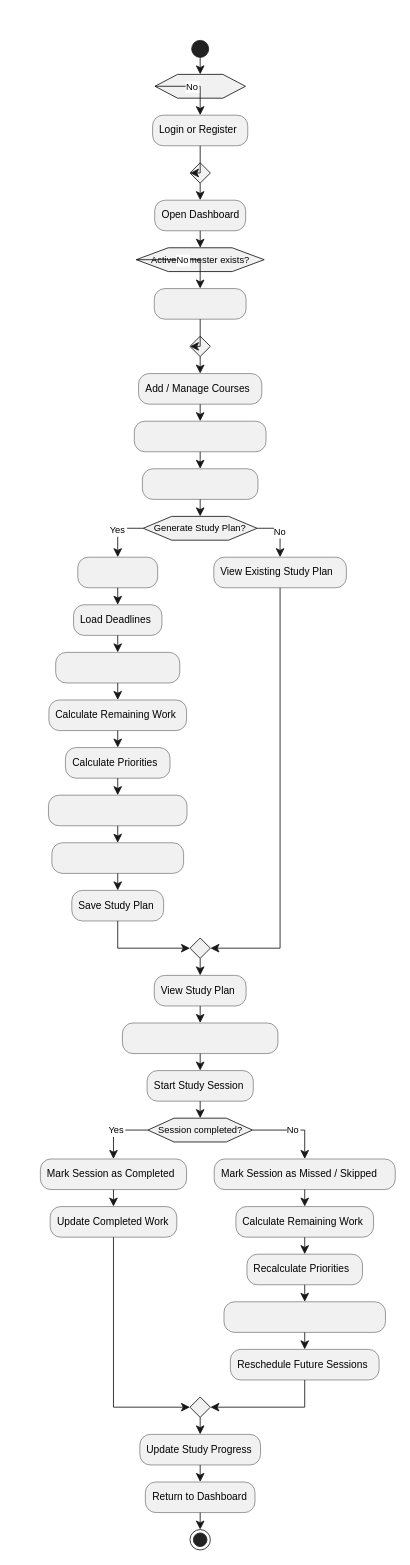
This 410x1565 diagram has some shape labels left out. The shapes that lost their labels are listed below. From the top down, each one's centre as x and y in pixels, then its label:
point (199, 86): User logged in?
point (200, 303): Create Semester
point (200, 436): Add / Manage Deadlines
point (200, 483): Set Study Availability
point (117, 572): Load Courses
point (117, 667): Load Study Availability
point (117, 810): Find Available Study Slots
point (117, 857): Generate Study Sessions
point (200, 1037): Select Today's Study Session
point (304, 1316): Find Remaining Available Slots
